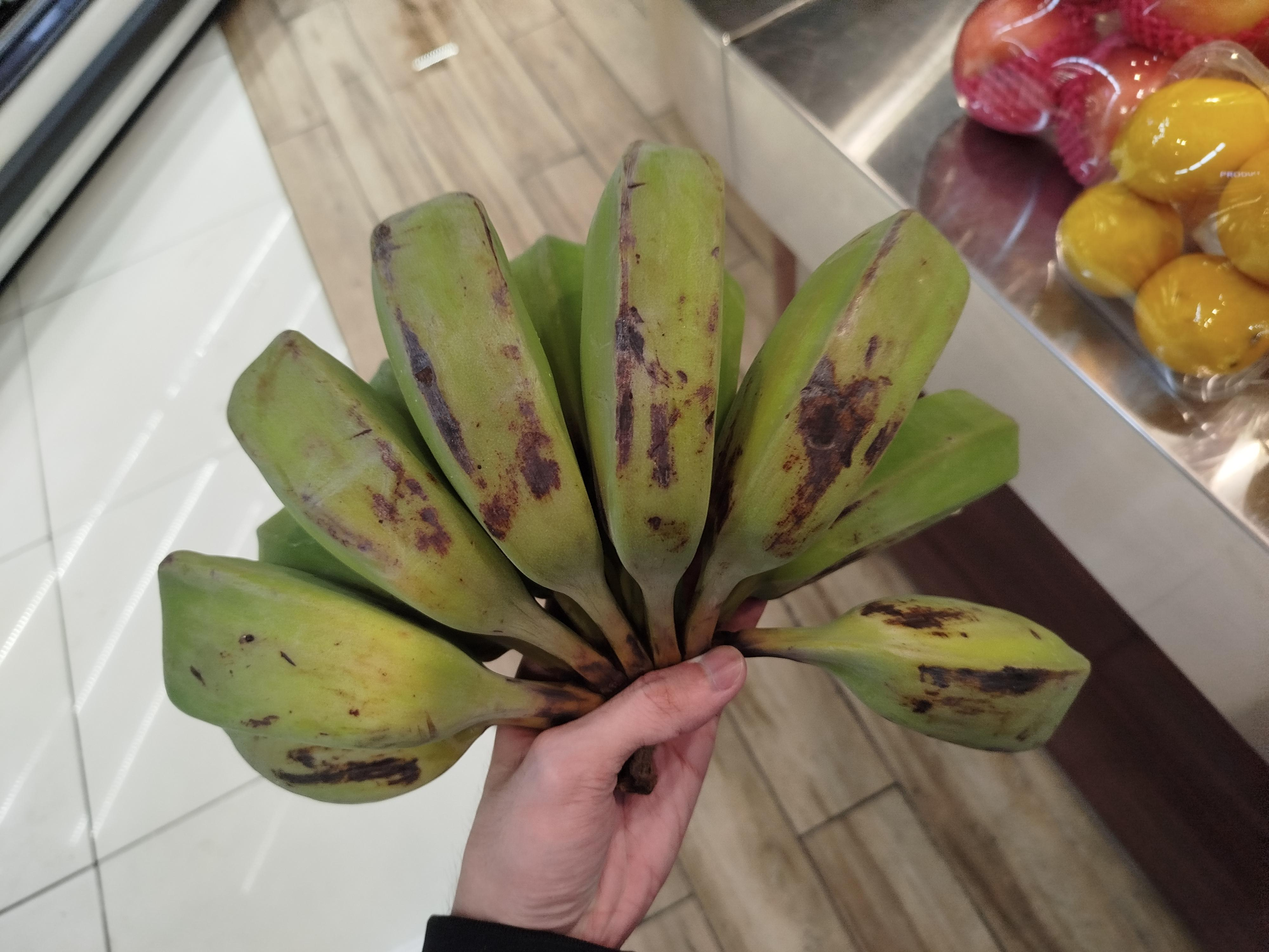underripe: (160, 143, 1088, 804)
